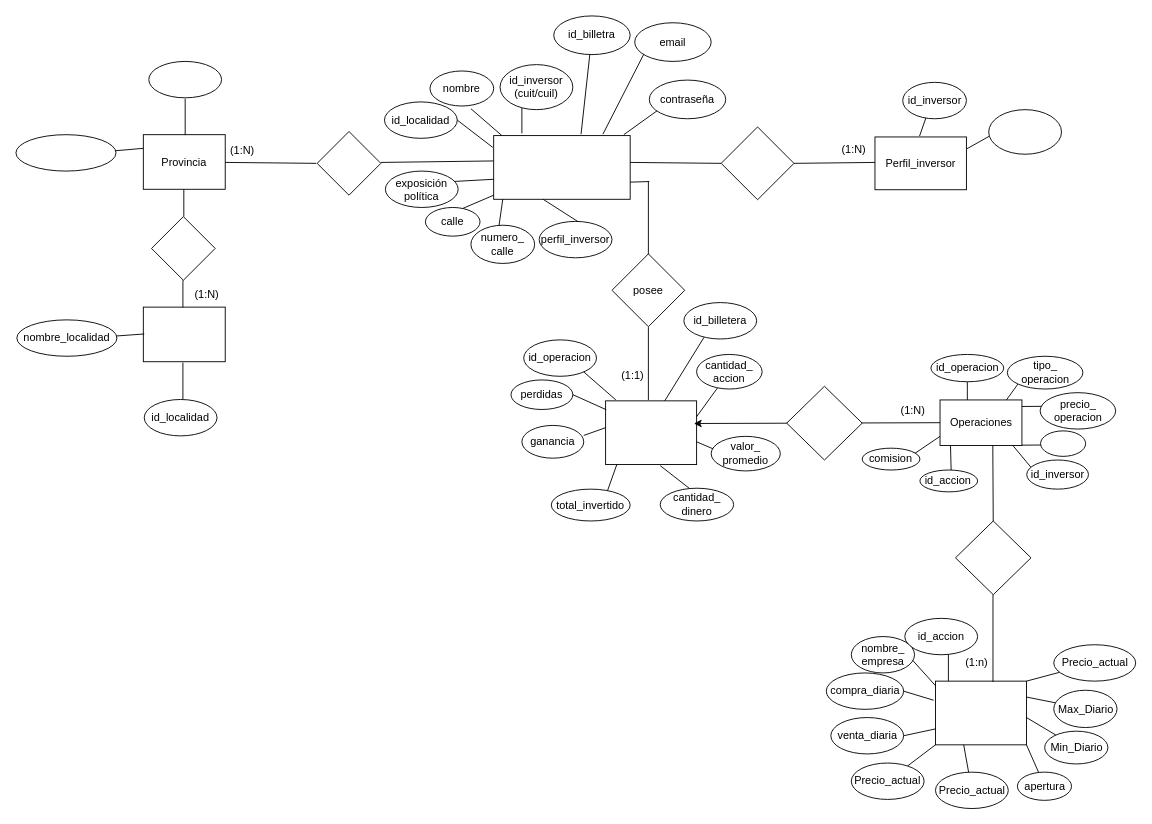
This 1152x824 diagram has some shape labels left out. The box of each missing label's shape, as (x1, y1, x2, y2) in pixels:
Accion: (935, 680, 1026, 745)
administra: (955, 520, 1031, 595)
Billetera: (605, 400, 697, 465)
contiene: (151, 216, 215, 280)
fecha: (1040, 430, 1086, 456)
gestiona: (786, 385, 862, 460)
id_provincia: (148, 61, 222, 98)
Inversor: (493, 135, 630, 199)
Localidad: (142, 306, 225, 362)
nombre_ provincia: (15, 134, 116, 171)
tiene: (720, 126, 794, 200)
tipo_inversor: (988, 109, 1062, 154)
vive: (316, 131, 381, 195)
